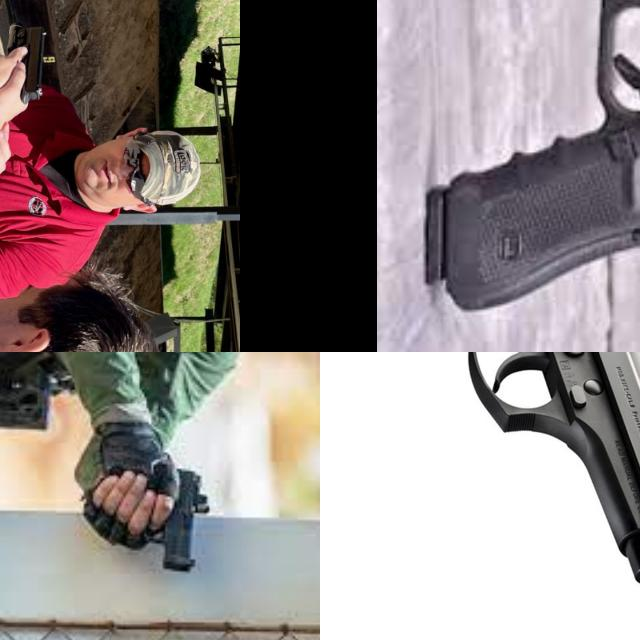handgun: (320, 352, 640, 599), (418, 0, 640, 317), (142, 467, 212, 578), (16, 21, 50, 104)
